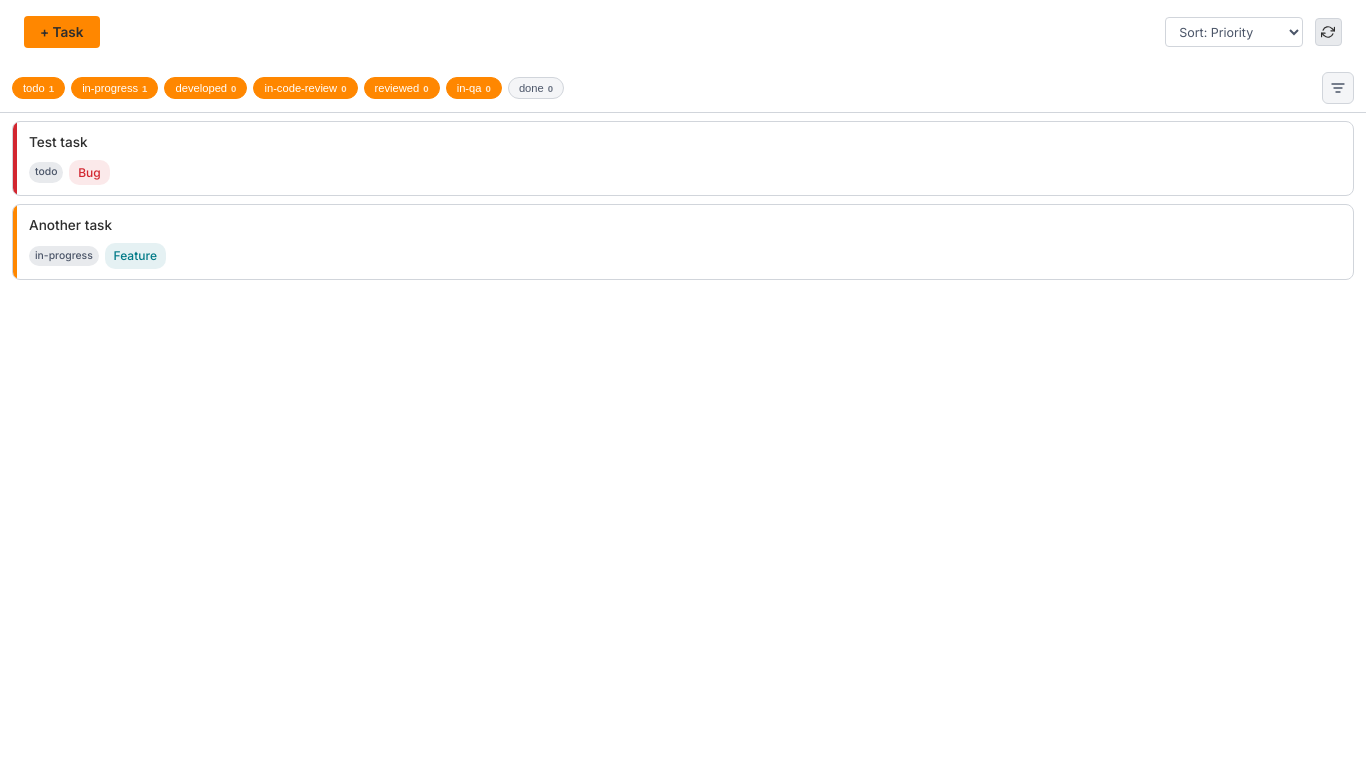
Test: TasksPanel - mobile view › opens task modal when a card is tapped on mobile
// Click on the first visible task card
Click the element "Test task todo Bug" at (683, 159), box x1=12 y1=121 x2=1354 y2=196
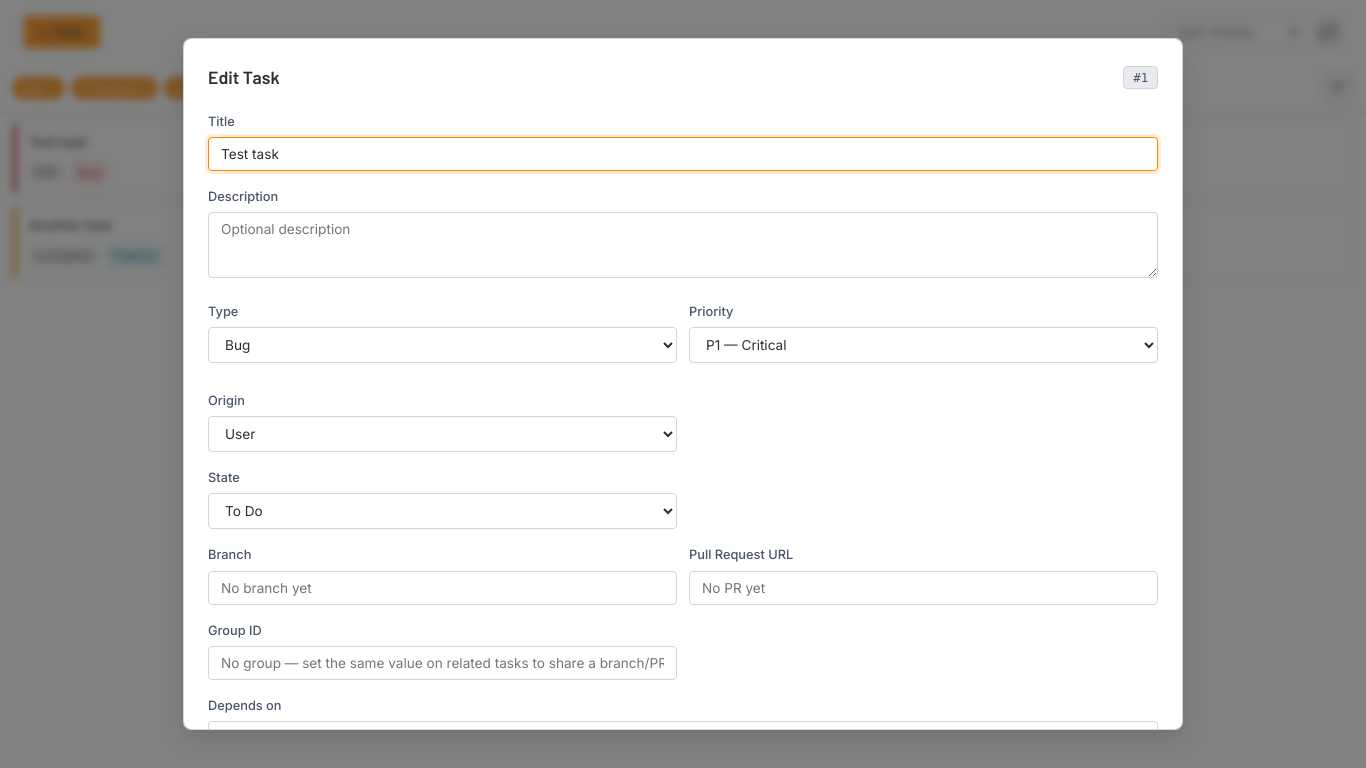
Check: the dialog is shown
